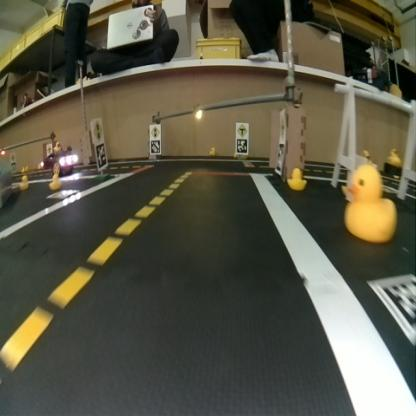Duckie: (345, 166, 396, 239), (288, 170, 306, 189), (50, 174, 60, 188), (20, 175, 28, 188), (52, 142, 60, 151), (209, 146, 215, 154)
Duckiebot: (41, 151, 77, 172)
Intersection sign: (236, 122, 246, 137)
QR code: (368, 274, 414, 343), (275, 142, 285, 172), (95, 143, 106, 168), (48, 190, 77, 198), (236, 138, 247, 153), (149, 140, 160, 152)
Signal sign: (93, 119, 102, 140), (150, 125, 160, 138)
Traffic light: (194, 105, 201, 119)
